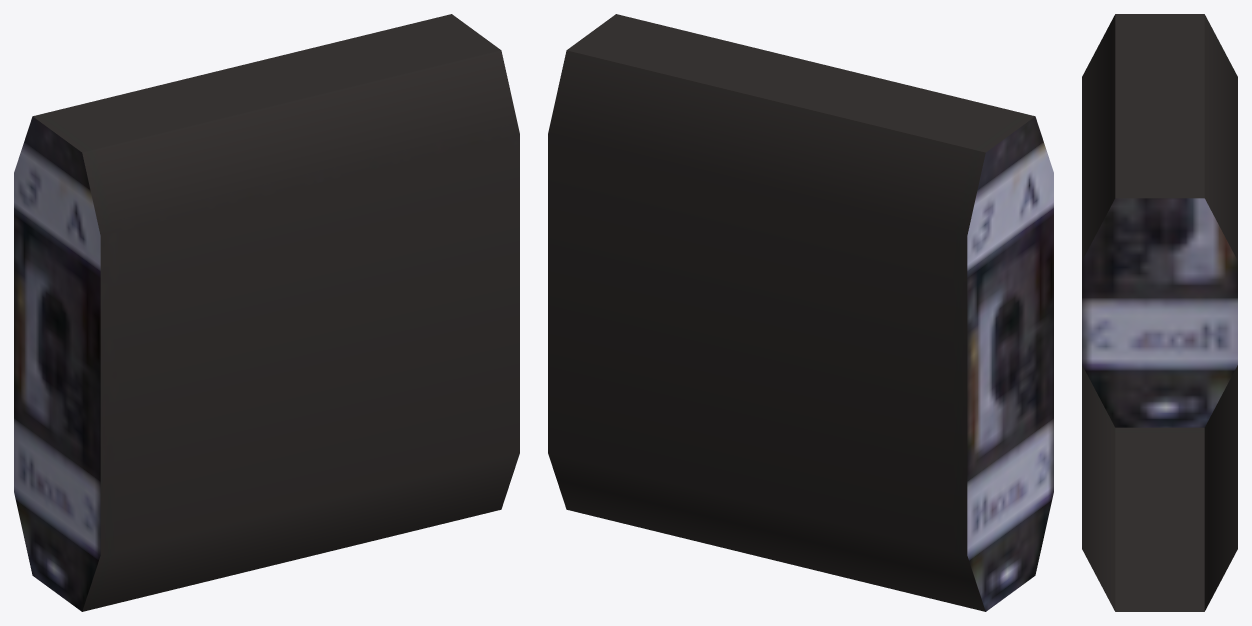
Rendered from fuse.fbx.
The picture shows the model from 3 angles, left to right: view 1: azimuth 30°, elevation 25°; view 2: azimuth 150°, elevation 25°; view 3: azimuth 270°, elevation 25°; orthographic projection. The views are drawn at different scales.
Visible parts, largest first — view 1: fuse; view 2: fuse; view 3: fuse.
Part boxes in pixels (x1,y1,x2,y2): fuse: (14,14,519,611); fuse: (548,14,1053,611); fuse: (1082,14,1237,611).
Size of the model in its own units: 0.0437 by 0.0457 by 0.0156.
